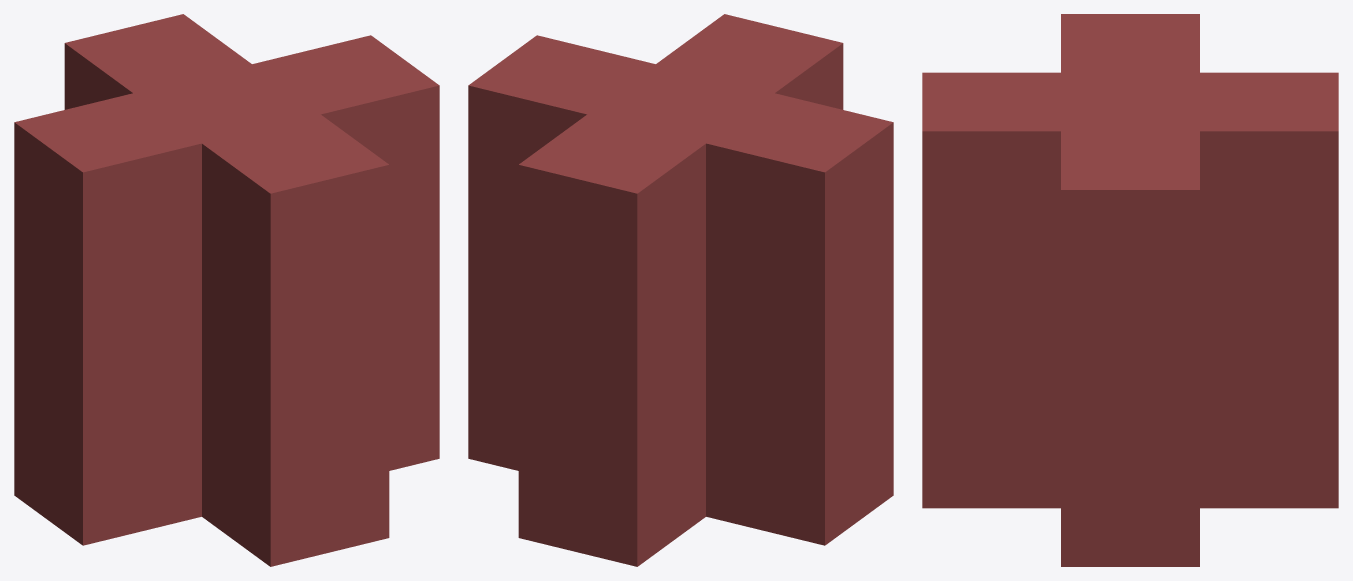
The model's file is Junction 3x3.fbx.
3 views of the same model, side by side, from view 1: azimuth 30°, elevation 25°; view 2: azimuth 150°, elevation 25°; view 3: azimuth 270°, elevation 25° (orthographic).
Visible parts, largest first — view 1: Junction_3x3; view 2: Junction_3x3; view 3: Junction_3x3.
Boxes of the visible parts, x1=… form: Junction_3x3: x1=14, y1=14, x2=439, y2=566; Junction_3x3: x1=468, y1=14, x2=893, y2=566; Junction_3x3: x1=922, y1=14, x2=1338, y2=566.
Size of the model in its own units: 3 by 3 by 3.
